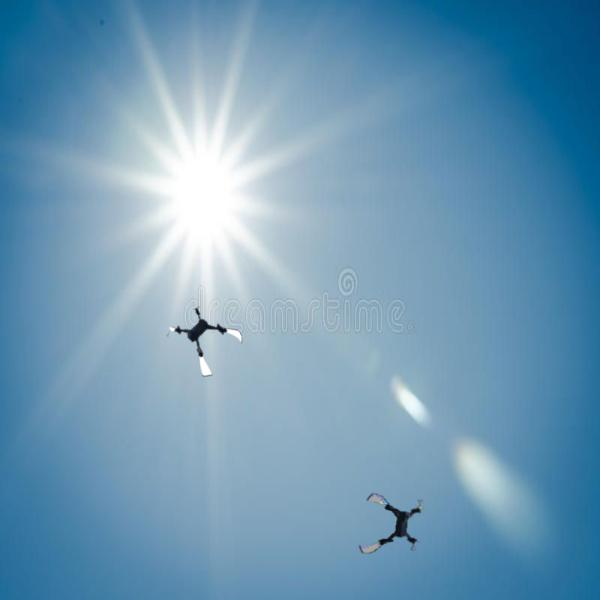drone: (171, 302, 246, 377), (359, 492, 429, 562)
